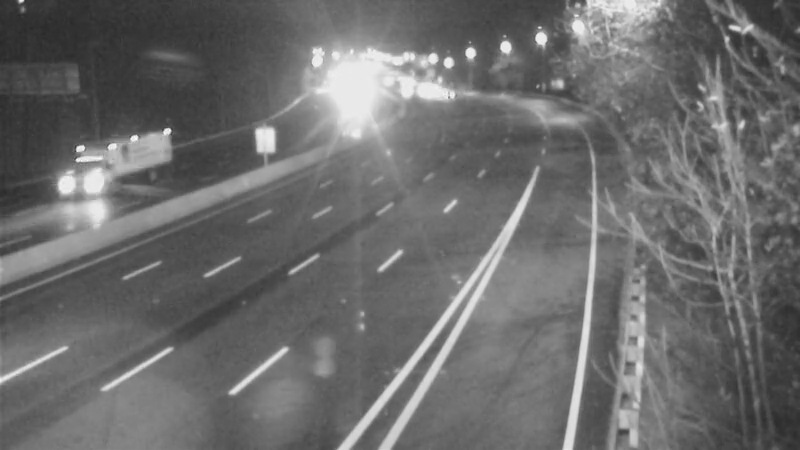vehicle: (34, 140, 114, 220), (422, 70, 472, 120)
